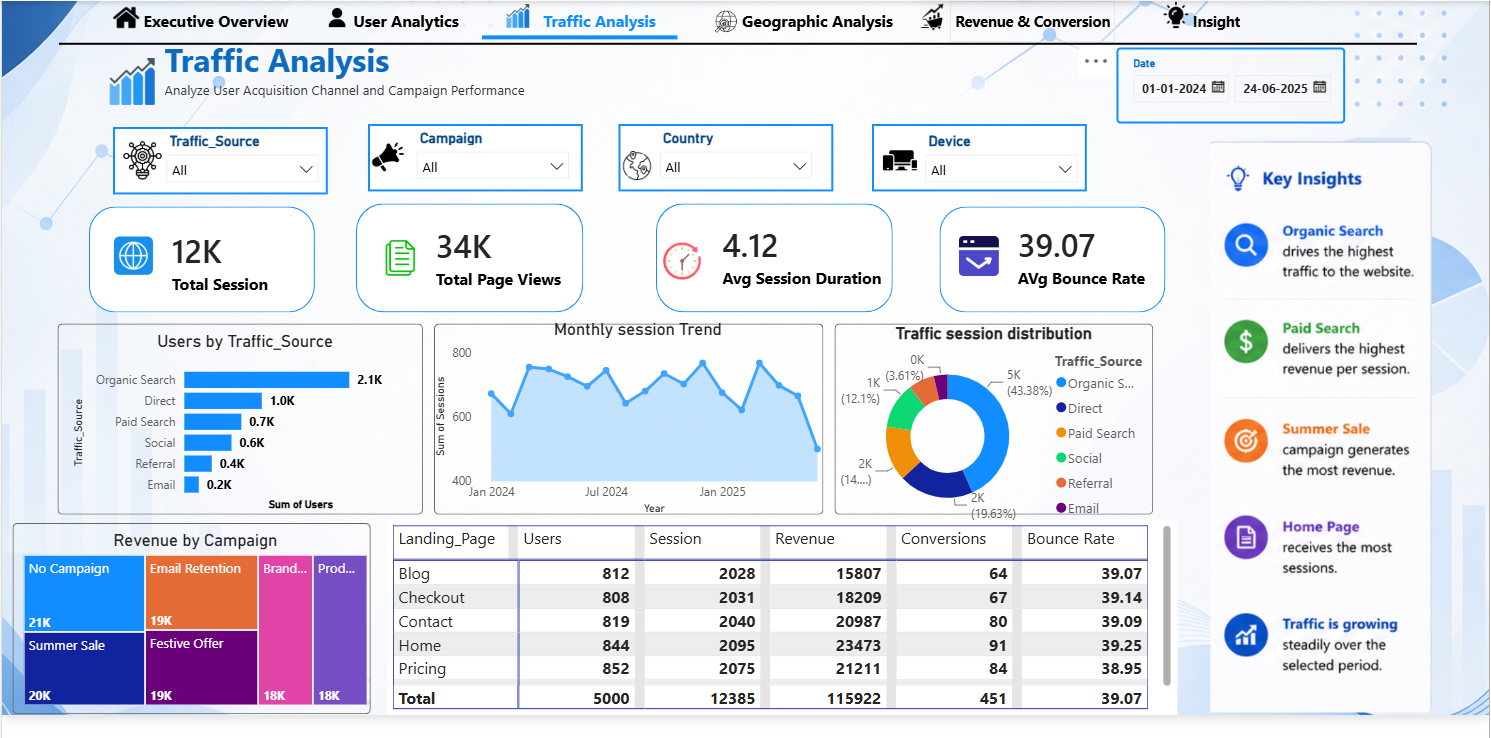

What the dashboard file says about the page in this screenshot:
{"tool":"powerbi","page":{"name":"Traffic Analysis","canvas":[1500,720],"ordinal":2},"visuals":[{"type":"shape","box":[112.5,126.4,216.7,68.1],"z":0},{"type":"shape","box":[877.8,123.6,216.7,68.1],"z":1000},{"type":"shape","box":[622.2,123.6,216.7,68.1],"z":2000},{"type":"shape","box":[369.4,123.6,216.7,68.1],"z":3000},{"type":"textbox","box":[158.3,31.9,395.8,72.2],"z":4000},{"type":"image","box":[104.2,56.9,54.2,47.2],"z":5000},{"type":"actionButton","box":[131.3,0,168.5,40.5],"z":6000},{"type":"actionButton","box":[337.5,0,140.3,40.3],"z":7000},{"type":"actionButton","box":[533.3,0,140.3,40.3],"z":8000},{"type":"actionButton","box":[956.2,0,166.9,40.5],"z":9000},{"type":"actionButton","box":[740.6,0,165.3,40.5],"z":10000},{"type":"actionButton","box":[1161.1,0,129.2,40.3],"z":11000},{"type":"shape","box":[56.8,37.3,1369.9,10.6],"z":12000},{"type":"shape","box":[484.3,30,197.1,12.9],"z":13000},{"type":"image","box":[112.5,0,26.4,33.3],"z":14000},{"type":"image","box":[329,3.2,19.4,27.6],"z":15000},{"type":"image","box":[508.9,3.2,24.3,24.3],"z":16000},{"type":"image","box":[706.9,8.3,47.2,23.6],"z":17000},{"type":"image","box":[914.1,1.6,48.6,29.2],"z":18000},{"type":"image","box":[1161.1,0,47.2,27.8],"z":19000},{"type":"slicer","fields":{"Values":["Digital_Marketing_Data.Date"]},"box":[1123.6,47.2,230.6,76.4],"z":20000},{"type":"slicer","fields":{"Values":["Digital_Marketing_Data.Device"]},"box":[920.8,127.8,173.6,76.4],"z":21000},{"type":"slicer","fields":{"Values":["Digital_Marketing_Data.Traffic_Source"]},"box":[155.6,127.8,173.6,66.7],"z":22000},{"type":"slicer","fields":{"Values":["Digital_Marketing_Data.Campaign"]},"box":[408.3,123.6,173.6,76.4],"z":23000},{"type":"slicer","fields":{"Values":["Digital_Marketing_Data.Country"]},"box":[654.2,123.6,173.6,76.4],"z":24000},{"type":"image","box":[104.2,140.3,75,40.3],"z":25000},{"type":"image","box":[370.8,140.3,37.5,33.3],"z":26000},{"type":"image","box":[622.2,151.4,37.5,29.2],"z":27000},{"type":"image","box":[880.6,140.3,51.4,40.3],"z":28000},{"type":"shape","box":[87.5,206.9,227.8,106.9],"z":29000},{"type":"shape","box":[945.8,206.9,227.8,106.9],"z":30000},{"type":"shape","box":[659.7,204.2,238.9,109.7],"z":31000},{"type":"shape","box":[356.9,204.2,229.2,109.7],"z":32000},{"type":"cardVisual","fields":{"Data":["Digital_Marketing_Data.total session"]},"box":[141.7,209.7,158.3,104.2],"z":33000},{"type":"cardVisual","fields":{"Data":["Digital_Marketing_Data.Avg Session Duration"]},"box":[697.2,204.2,223.6,104.2],"z":34000},{"type":"cardVisual","fields":{"Data":["Sum(Digital_Marketing_Data.Page_Views)"]},"box":[408.3,206.9,190.3,101.4],"z":35000},{"type":"cardVisual","fields":{"Data":["Digital_Marketing_Data.AVg Bounce Rate"]},"box":[995.7,204.3,212.9,104.3],"z":36000},{"type":"image","box":[108.3,237.5,47.2,38.9],"z":37000},{"type":"image","box":[369.4,238.9,65.3,40.3],"z":38000},{"type":"image","box":[659.7,243.1,52.8,37.5],"z":39000},{"type":"image","box":[962.5,231.9,45.8,51.4],"z":40000},{"type":"image","box":[1208.4,138.4,243.1,580.2],"z":41000},{"type":"shape","box":[55.7,325.7,368.6,192.9],"z":42000},{"type":"shape","box":[10,527.1,361.4,192.9],"z":43000},{"type":"shape","box":[435.7,325.7,392.9,192.9],"z":44000},{"type":"shape","box":[840,325.7,321.4,192.9],"z":45000},{"type":"clusteredBarChart","title":"Users by Traffic_Source","fields":{"Category":["Digital_Marketing_Data.Traffic_Source"],"Y":["Sum(Digital_Marketing_Data.Users)"]},"box":[67.1,332.9,357.1,185.7],"z":46000},{"type":"lineChart","title":"Monthly session Trend","fields":{"Y":["Sum(Digital_Marketing_Data.Sessions)"],"Category":["Digital_Marketing_Data.Date.Variation.Date Hierarchy.Year","Digital_Marketing_Data.Date.Variation.Date Hierarchy.Month"]},"box":[431.4,321.4,420,201.4],"z":47000},{"type":"donutChart","title":"Traffic session distribution","fields":{"Y":["Sum(Digital_Marketing_Data.Sessions)"],"Category":["Digital_Marketing_Data.Traffic_Source"]},"box":[840,325.7,321.4,207.1],"z":48000},{"type":"treemap","fields":{"Group":["Digital_Marketing_Data.Campaign"],"Values":["Sum(Digital_Marketing_Data.Revenue_USD)"]},"box":[16,534.1,356.7,181],"z":49000},{"type":"shape","box":[390,527.1,771.4,192.9],"z":50000},{"type":"pivotTable","fields":{"Rows":["Digital_Marketing_Data.Landing_Page"],"Values":["Sum(Digital_Marketing_Data.Users)","Sum(Digital_Marketing_Data.Sessions)","Sum(Digital_Marketing_Data.Revenue_USD)","Sum(Digital_Marketing_Data.Conversions)","Digital_Marketing_Data.AVg Bounce Rate"]},"box":[388.6,522.9,795.7,195.7],"z":51000}]}

Visuals, with their boxes on the page's 1500x720 design canvas (x1, y1, x2, y2). These are canvas units, not pixel positions in the 1491x738 screenshot, which may show the page scaled, cropped or inside an application window:
shape: (112, 126, 329, 194)
shape: (878, 124, 1094, 192)
shape: (622, 124, 839, 192)
shape: (369, 124, 586, 192)
textbox: (158, 32, 554, 104)
image: (104, 57, 158, 104)
actionButton: (131, 0, 300, 40)
actionButton: (338, 0, 478, 40)
actionButton: (533, 0, 674, 40)
actionButton: (956, 0, 1123, 40)
actionButton: (741, 0, 906, 40)
actionButton: (1161, 0, 1290, 40)
shape: (57, 37, 1427, 48)
shape: (484, 30, 681, 43)
image: (112, 0, 139, 33)
image: (329, 3, 348, 31)
image: (509, 3, 533, 28)
image: (707, 8, 754, 32)
image: (914, 2, 963, 31)
image: (1161, 0, 1208, 28)
slicer - Digital_Marketing_Data.Date: (1124, 47, 1354, 124)
slicer - Digital_Marketing_Data.Device: (921, 128, 1094, 204)
slicer - Digital_Marketing_Data.Traffic_Source: (156, 128, 329, 194)
slicer - Digital_Marketing_Data.Campaign: (408, 124, 582, 200)
slicer - Digital_Marketing_Data.Country: (654, 124, 828, 200)
image: (104, 140, 179, 181)
image: (371, 140, 408, 174)
image: (622, 151, 660, 181)
image: (881, 140, 932, 181)
shape: (88, 207, 315, 314)
shape: (946, 207, 1174, 314)
shape: (660, 204, 899, 314)
shape: (357, 204, 586, 314)
cardVisual - Digital_Marketing_Data.total session: (142, 210, 300, 314)
cardVisual - Digital_Marketing_Data.Avg Session Duration: (697, 204, 921, 308)
cardVisual - Sum(Digital_Marketing_Data.Page_Views): (408, 207, 599, 308)
cardVisual - Digital_Marketing_Data.AVg Bounce Rate: (996, 204, 1209, 309)
image: (108, 238, 156, 276)
image: (369, 239, 435, 279)
image: (660, 243, 712, 281)
image: (962, 232, 1008, 283)
image: (1208, 138, 1452, 719)
shape: (56, 326, 424, 519)
shape: (10, 527, 371, 720)
shape: (436, 326, 829, 519)
shape: (840, 326, 1161, 519)
"Users by Traffic_Source" clusteredBarChart: (67, 333, 424, 519)
"Monthly session Trend" lineChart: (431, 321, 851, 523)
"Traffic session distribution" donutChart: (840, 326, 1161, 533)
treemap - Digital_Marketing_Data.Campaign x Sum(Digital_Marketing_Data.Revenue_USD): (16, 534, 373, 715)
shape: (390, 527, 1161, 720)
pivotTable - Digital_Marketing_Data.Landing_Page x Sum(Digital_Marketing_Data.Users): (389, 523, 1184, 719)
